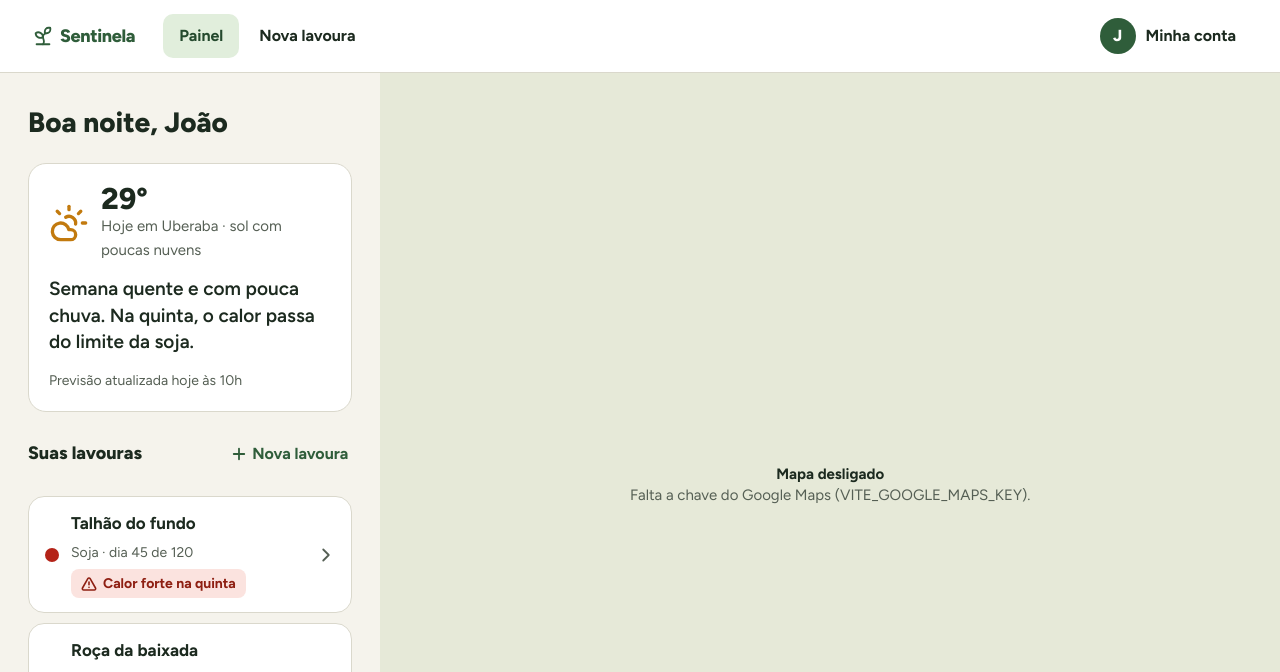
Test: Casca › no computador, mostra o menu com a tela atual marcada e a inicial de quem entrou
Expected: the navigation bar named "Principal" shows "Painel", [163,14,239,58]
Expected: the text "J" is shown, [1100,18,1136,54]
Click the link "J Minha conta" at (1171,36), box [1094,12,1248,60]
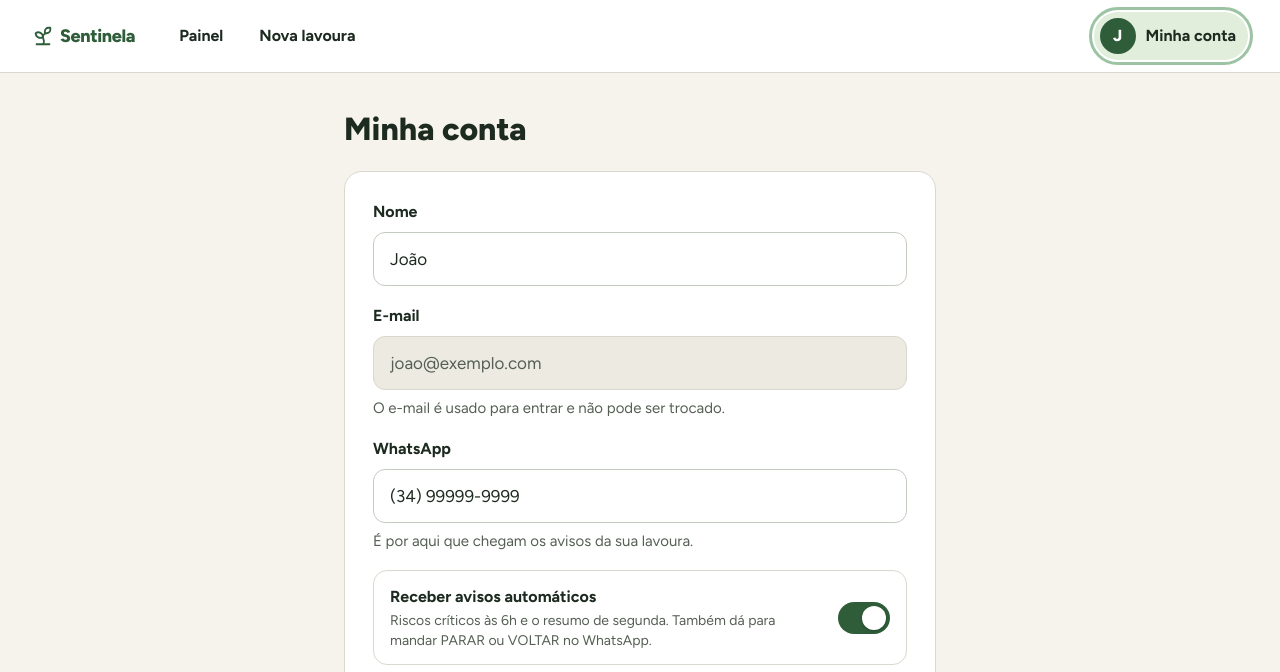
Now the heading "Minha conta" is shown, box [344,110,527,148]
